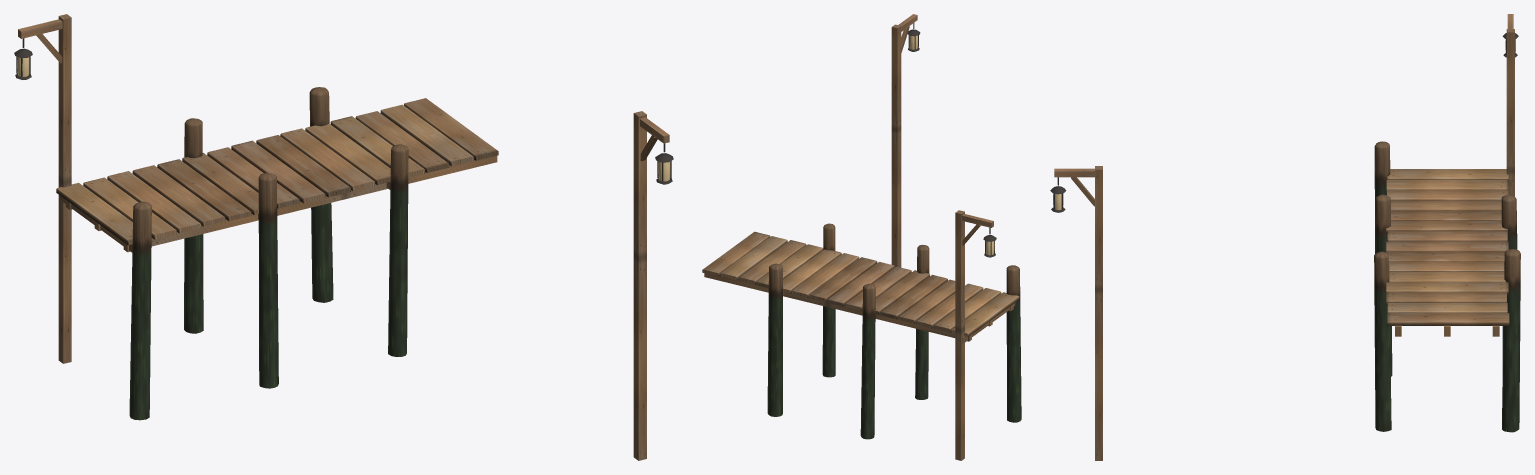
The model's file is wharf-dressing.glb.
3 views of the same model, side by side, from view 1: azimuth 30°, elevation 25°; view 2: azimuth 150°, elevation 25°; view 3: azimuth 270°, elevation 25° (orthographic). The views are drawn at different scales.
Parts seen in each view (by area): view 1: wharf_dressing; view 2: wharf_dressing; view 3: wharf_dressing.
Part boxes in pixels (x1,y1,x2,y2): wharf_dressing: (14, 14, 673, 460); wharf_dressing: (702, 14, 1021, 460); wharf_dressing: (1050, 14, 1520, 460).
Size of the model in its own units: 4.18 by 3.32 by 4.86.
Materials: 4 (2 with a texture image).
